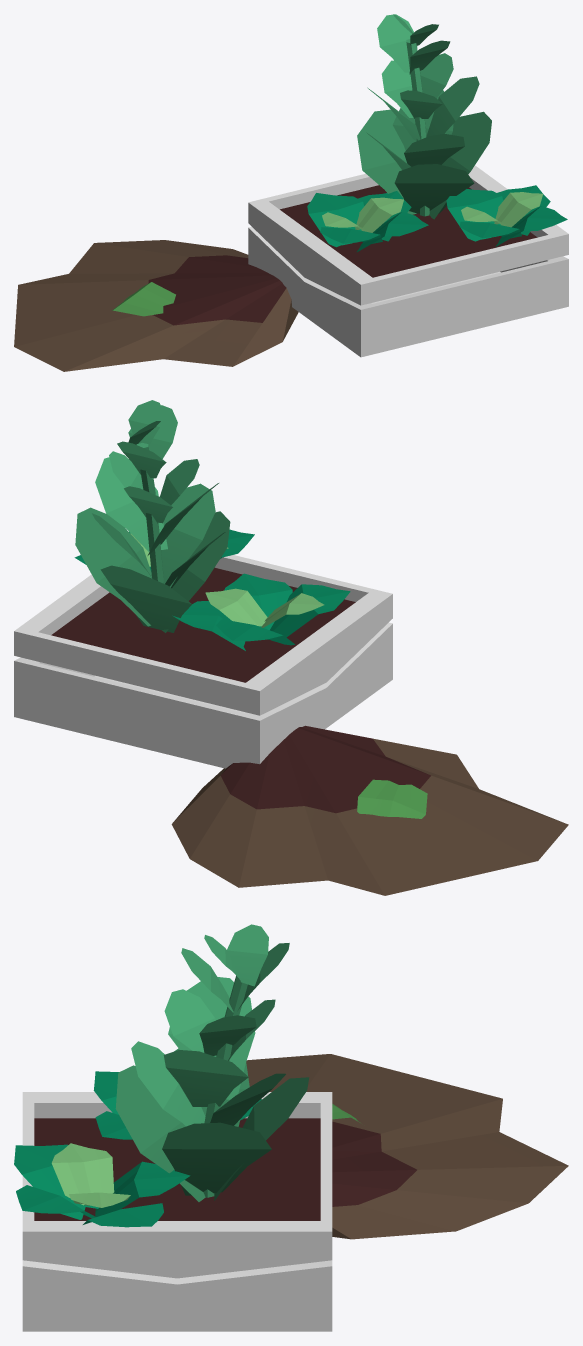
File: Destroyed_plant_farm_008.fbx
The picture shows the model from 3 angles, top to bottom: view 1: azimuth 30°, elevation 25°; view 2: azimuth 150°, elevation 25°; view 3: azimuth 270°, elevation 25°; orthographic projection. The views are drawn at different scales.
Parts seen in each view (by area): view 1: polySurface2856, polySurface2420, polySurface2139, polySurface2138, polySurface2140, polySurface2411, polySurface2410, polySurface2860; view 2: polySurface2856, polySurface2139, polySurface2420, polySurface2138, polySurface2140, polySurface2411, polySurface2860, polySurface2410; view 3: polySurface2856, polySurface2420, polySurface2138, polySurface2139, polySurface2140, polySurface2410, polySurface2411.
Boxes of the visible parts, bbox=[...] form: polySurface2856: bbox=[14, 240, 298, 371]; polySurface2420: bbox=[357, 14, 491, 219]; polySurface2139: bbox=[248, 226, 568, 357]; polySurface2138: bbox=[248, 165, 568, 305]; polySurface2140: bbox=[280, 185, 537, 277]; polySurface2411: bbox=[307, 191, 428, 251]; polySurface2410: bbox=[446, 185, 567, 246]; polySurface2860: bbox=[112, 282, 175, 316]; polySurface2856: bbox=[171, 725, 568, 895]; polySurface2139: bbox=[14, 622, 392, 768]; polySurface2420: bbox=[75, 400, 230, 632]; polySurface2138: bbox=[14, 555, 392, 715]; polySurface2140: bbox=[51, 567, 355, 682]; polySurface2411: bbox=[172, 573, 350, 650]; polySurface2860: bbox=[357, 779, 427, 818]; polySurface2410: bbox=[74, 529, 254, 571]; polySurface2856: bbox=[246, 1054, 568, 1239]; polySurface2420: bbox=[115, 924, 309, 1201]; polySurface2138: bbox=[22, 1092, 332, 1278]; polySurface2139: bbox=[22, 1260, 332, 1331]; polySurface2140: bbox=[34, 1118, 320, 1220]; polySurface2410: bbox=[14, 1143, 190, 1227]; polySurface2411: bbox=[93, 1071, 261, 1139].
Size of the model in its own units: 3.6 by 2 by 2.75.
